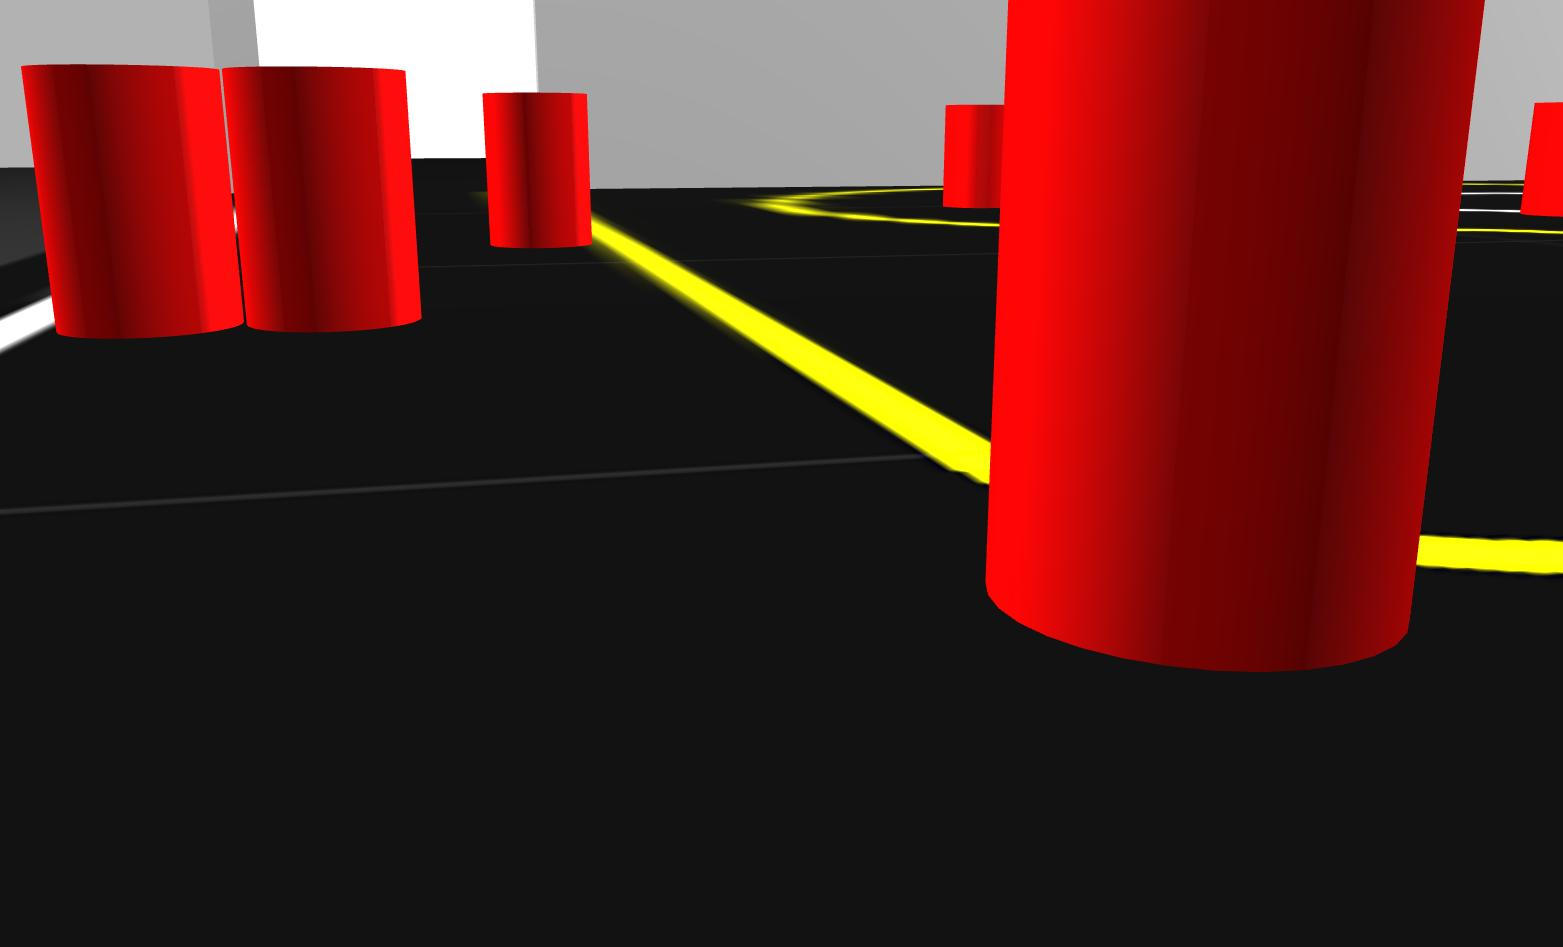obstacle: (986, 1, 1494, 678), (13, 56, 250, 343), (221, 59, 435, 336), (476, 84, 604, 252), (936, 97, 1003, 214), (1513, 94, 1563, 230)
